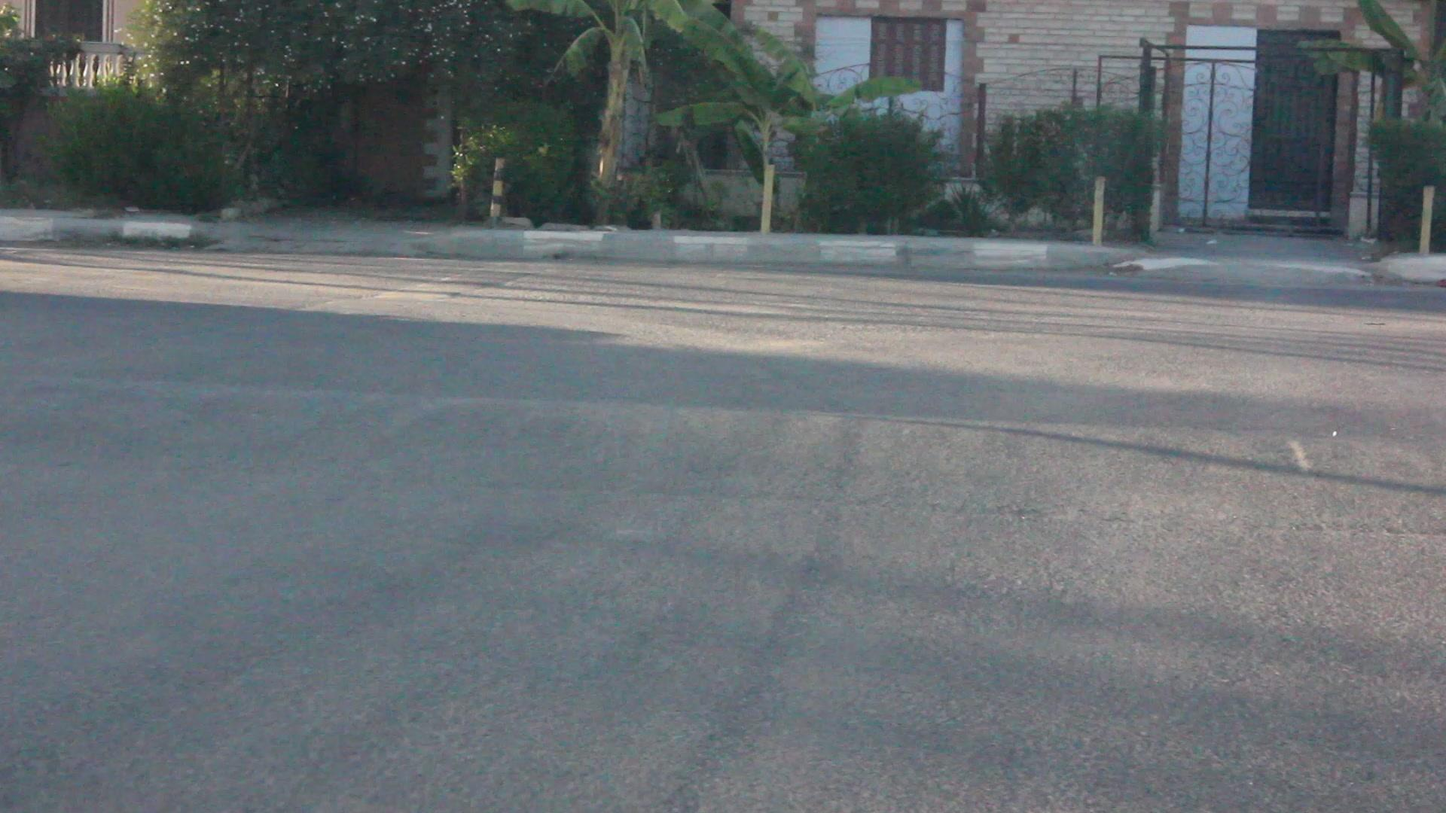Bump: (0, 376, 1440, 519)
